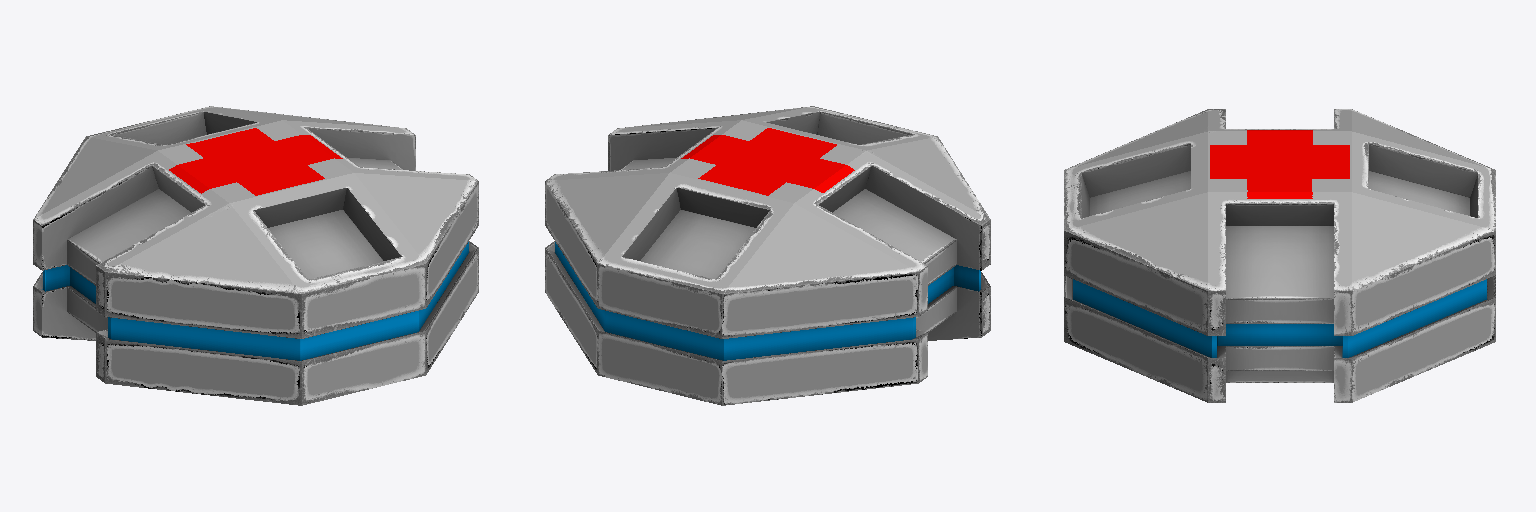
3 views of the same model, side by side, from view 1: azimuth 30°, elevation 25°; view 2: azimuth 150°, elevation 25°; view 3: azimuth 270°, elevation 25° (orthographic).
Visible parts, largest first — view 1: medkit; view 2: medkit; view 3: medkit.
Part boxes in pixels (x1,y1,x2,y2): medkit: (33,106,478,405); medkit: (545,106,990,405); medkit: (1064,109,1495,402).
Bounding box in the file's own units: 60 × 28.94 × 60.
Materials: 1 (1 with a texture image).